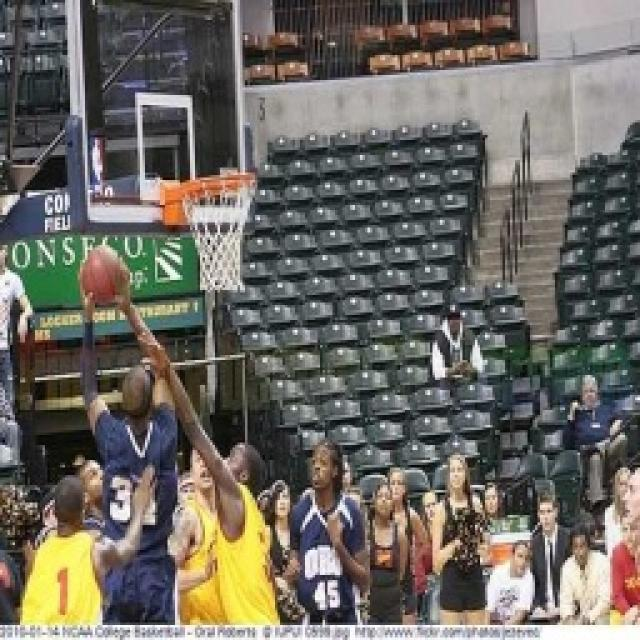rim: (74, 239, 132, 306)
